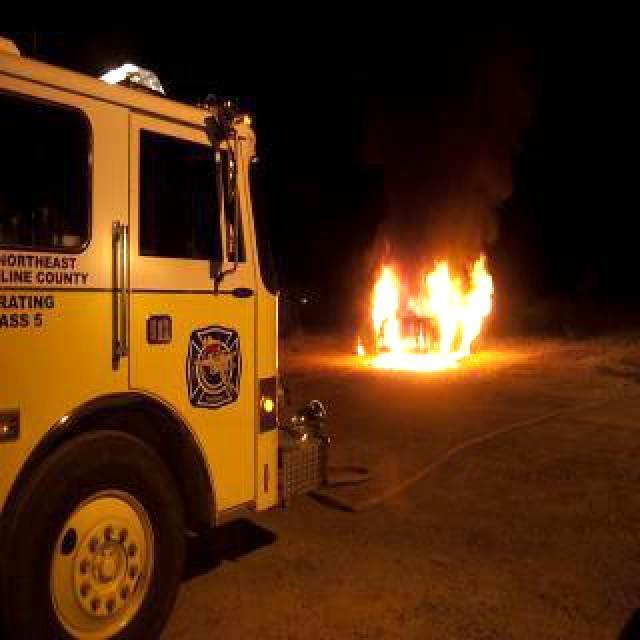Fire: (355, 242, 503, 373)
Smoke: (361, 66, 539, 239)
